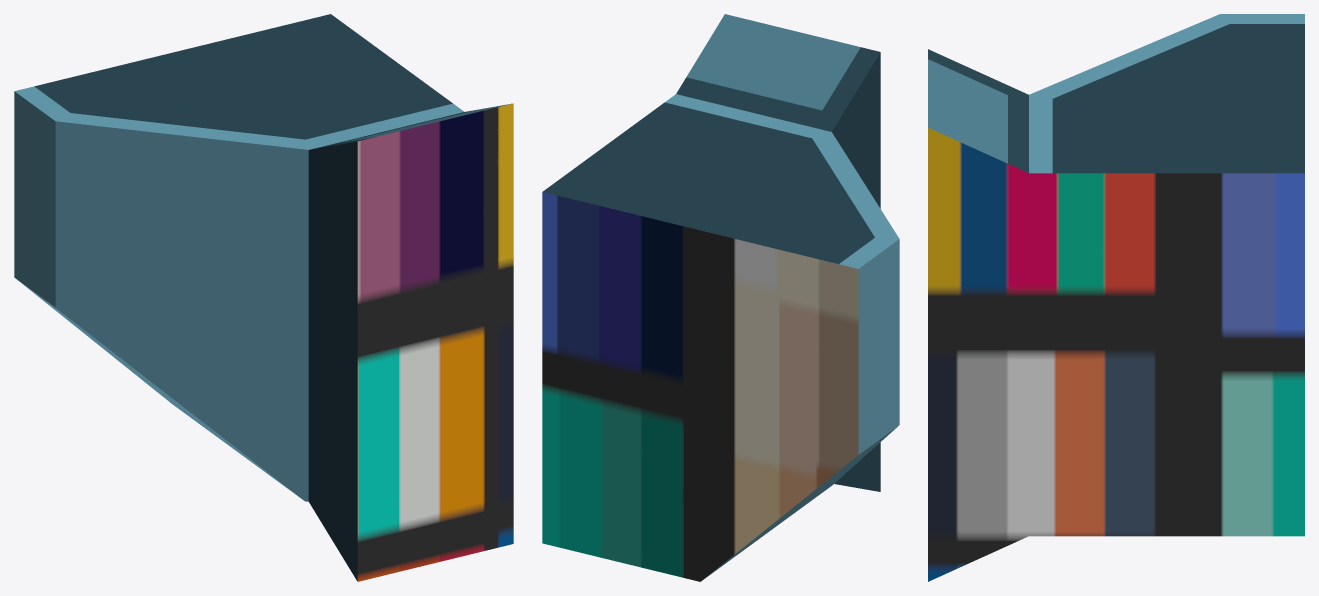
The model's file is tile_0_1_6.gltf.
3 views of the same model, side by side, from view 1: azimuth 30°, elevation 25°; view 2: azimuth 150°, elevation 25°; view 3: azimuth 270°, elevation 25° (orthographic). The views are drawn at different scales.
Parts seen in each view (by area): view 1: arena.floor.corners.006, arena.sides.high.005; view 2: arena.floor.corners.006, arena.sides.high.005; view 3: arena.floor.corners.006, arena.sides.high.005.
Part boxes in pixels (x1,y1,x2,y2): arena.floor.corners.006: (14, 14, 464, 501); arena.sides.high.005: (308, 103, 513, 581); arena.floor.corners.006: (542, 94, 899, 581); arena.sides.high.005: (676, 14, 880, 491); arena.floor.corners.006: (1029, 14, 1304, 536); arena.sides.high.005: (928, 49, 1028, 581).
Size of the model in its own units: 8 by 10.64 by 8.
Materials: 1 (1 with a texture image).
